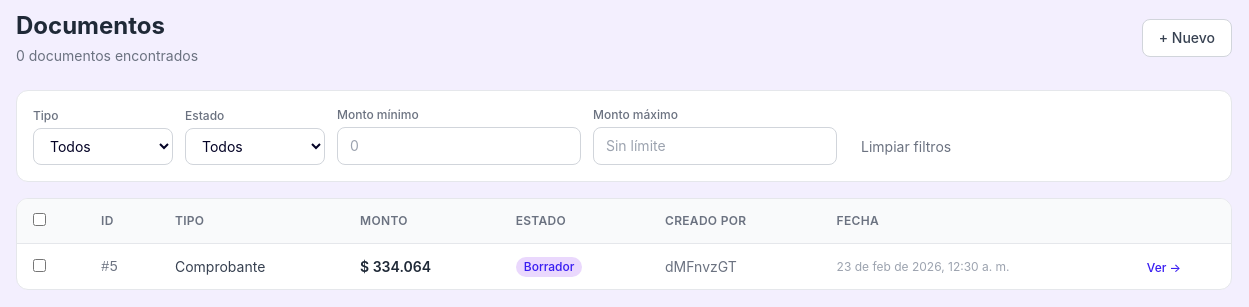
DocumentsPage › selection and batch › shows batch button after selecting a document
The image size is (1249, 307).
Click the 2nd checkbox at (40, 265), box [33, 258, 46, 272]
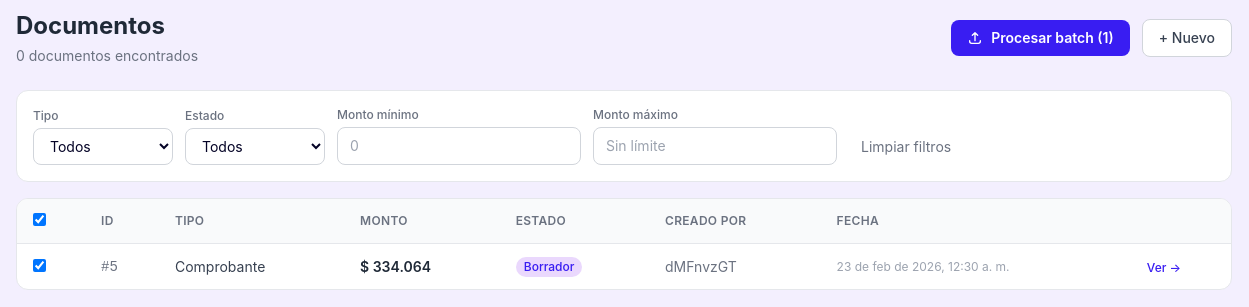
Check: the button "Procesar batch (1)" is shown, box [951, 20, 1130, 56]
